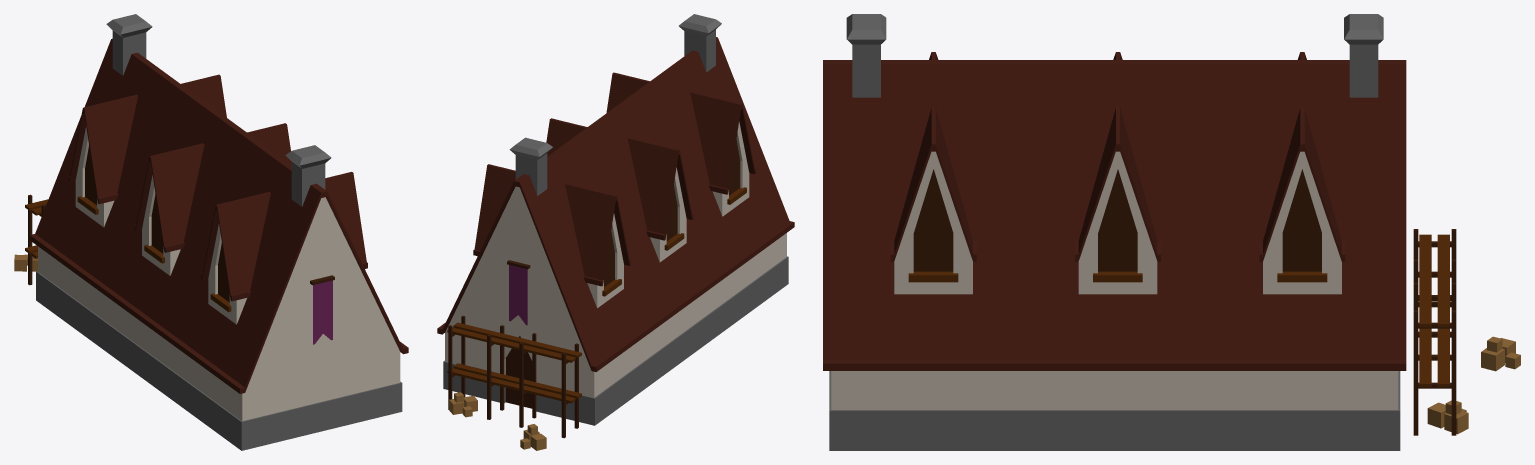
Rendered from EstateBuildPhase3v1.fbx.
The picture shows the model from 3 angles, left to right: view 1: azimuth 30°, elevation 25°; view 2: azimuth 150°, elevation 25°; view 3: azimuth 270°, elevation 25°; orthographic projection. The views are drawn at different scales.
Parts seen in each view (by area): view 1: Plane.432; view 2: Plane.432; view 3: Plane.432.
Boxes of the visible parts, <box> form: Plane.432: <box>14,14,408,450</box>; Plane.432: <box>437,14,794,450</box>; Plane.432: <box>823,14,1520,450</box>.
Size of the model in its own units: 131 by 201 by 338.
